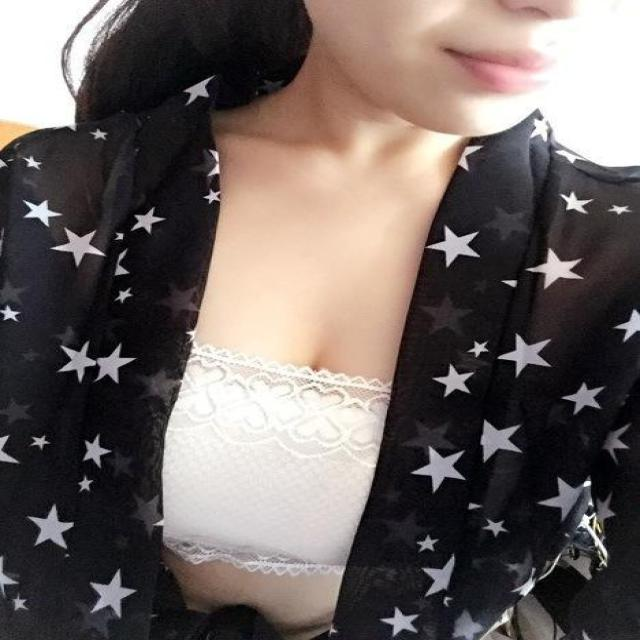long sleeve outwear: (1, 78, 219, 639)
